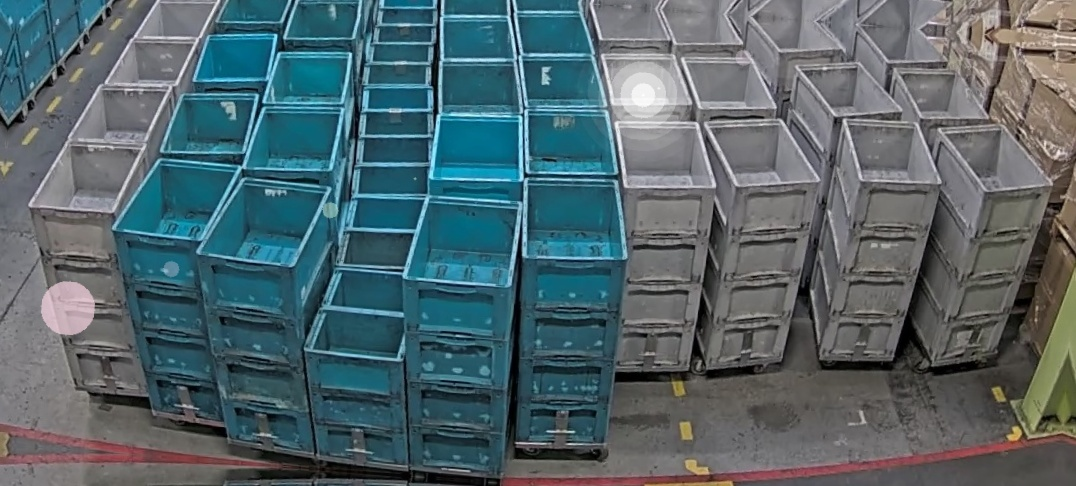4G: (13, 134, 169, 398), (905, 118, 1058, 370), (685, 112, 825, 377), (804, 115, 947, 369), (595, 116, 722, 379)
B4: (185, 167, 337, 454), (97, 154, 244, 423), (387, 193, 523, 476), (503, 172, 634, 450)
B8: (295, 265, 424, 466)
